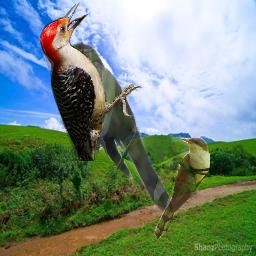Cuckoo: (57, 42, 179, 216), (154, 137, 210, 240)
Woodpecker: (40, 2, 145, 161)
